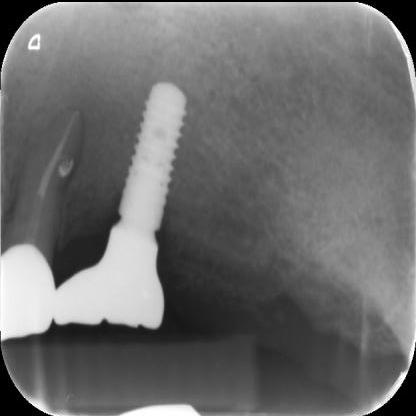ITI: (109, 69, 194, 244)
